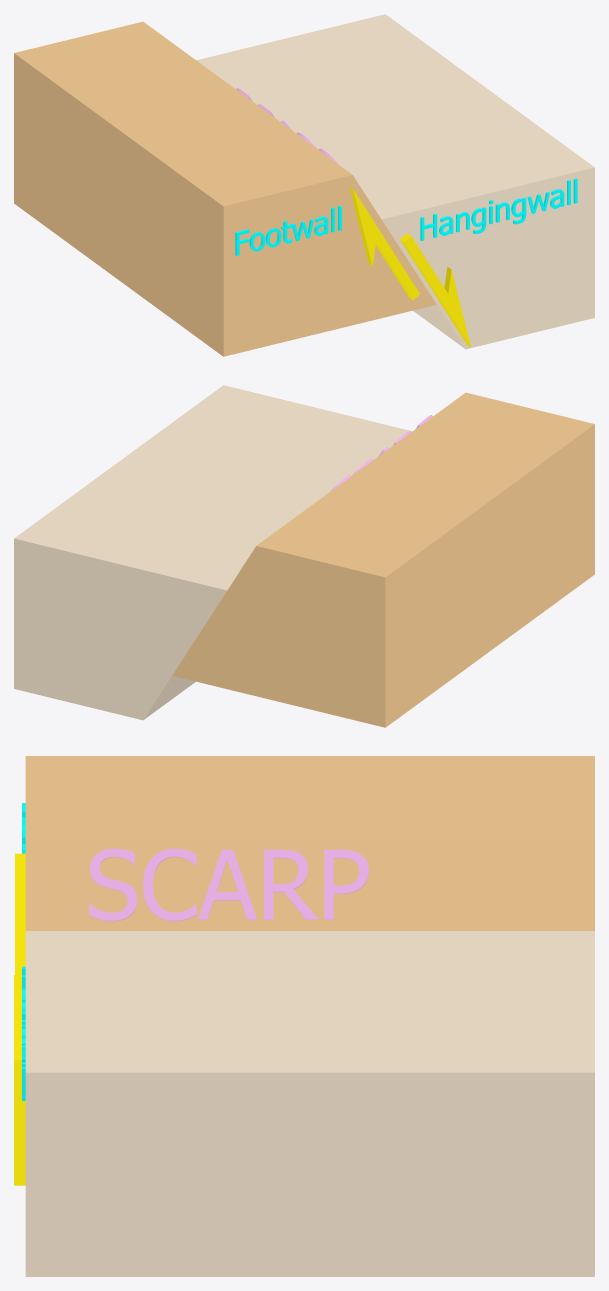
The model's file is normal_fault.glb.
3 renders of one model, top to bottom at view 1: azimuth 30°, elevation 25°; view 2: azimuth 150°, elevation 25°; view 3: azimuth 270°, elevation 25°, orthographic. The views are drawn at different scales.
Visible parts, largest first — view 1: Material2 (×6); view 2: Material2 (×2); view 3: Material2 (×5).
Part boxes in pixels (x1=…): Material2 (×6): x1=14, y1=14, x2=594, y2=356; Material2 (×2): x1=14, y1=385, x2=594, y2=727; Material2 (×5): x1=14, y1=756, x2=594, y2=1276.
Size of the model in its own units: 163 by 84.57 by 162.
